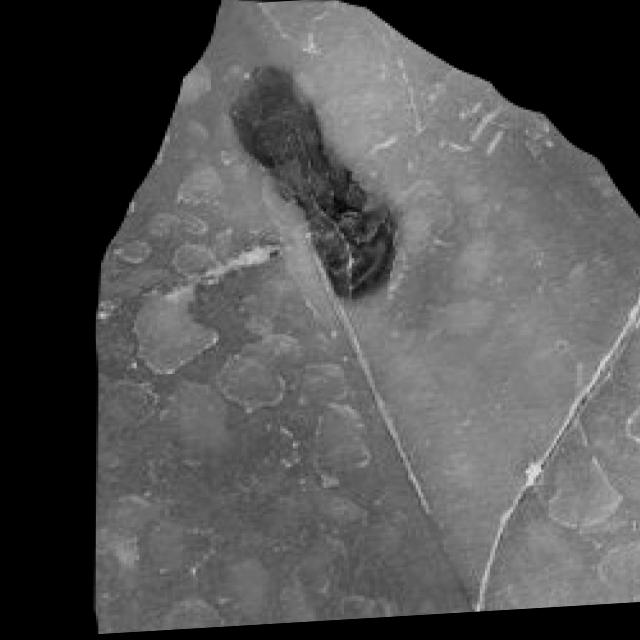mite: (310, 183, 404, 308)
sunburn: (223, 58, 410, 317)
